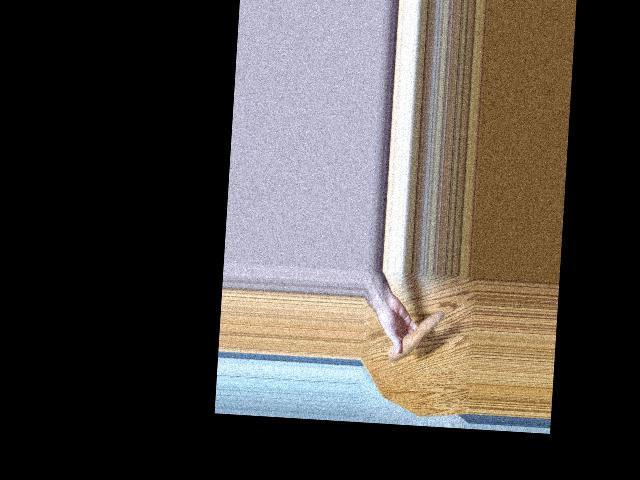sweet_potato: (386, 308, 443, 362)
